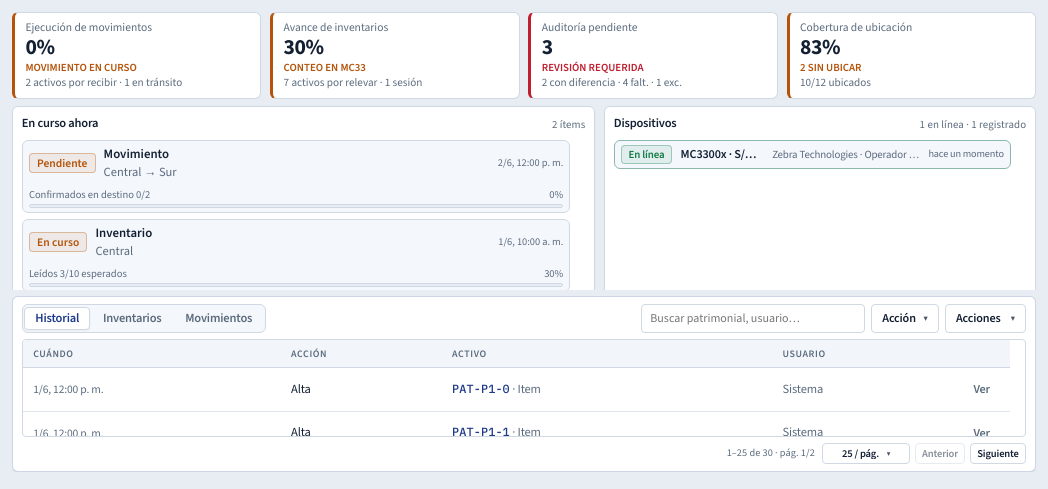
Test: DashboardPage › pagina el historial con Anterior y Siguiente
Check: the text "PAT-P1-0" is shown, box x1=452 y1=381 x2=510 y2=396
Check: the text "1–25 de 30 · pág. 1/2" is shown, box x1=727 y1=447 x2=815 y2=459
Click the button "Siguiente" at (998,453), box x1=970 y1=443 x2=1026 y2=464
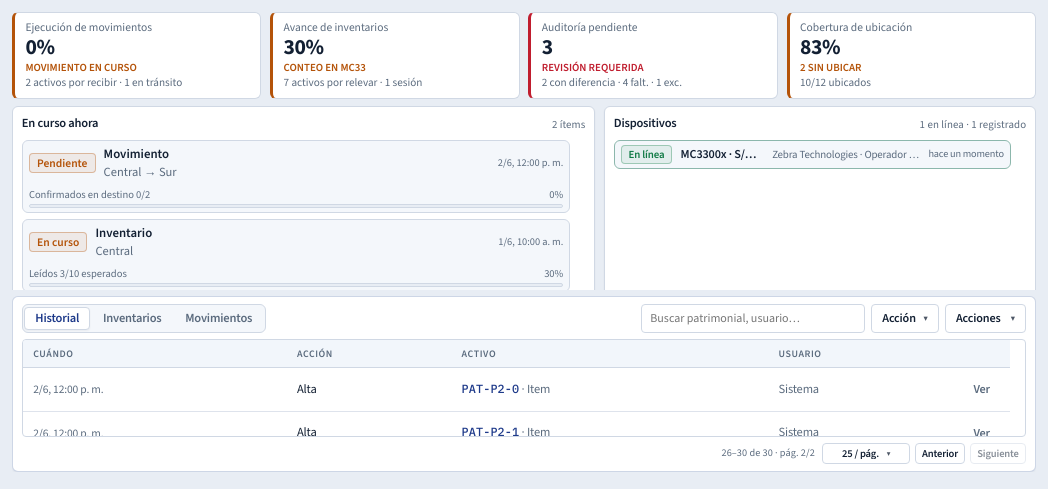
Check: the text "PAT-P2-0" is shown, box x1=462 y1=381 x2=519 y2=396
Check: the text "26–30 de 30 · pág. 2/2" is shown, box x1=721 y1=447 x2=815 y2=459
Check: the button "Siguiente" is disabled, box x1=970 y1=443 x2=1026 y2=464
Click the button "Anterior" at (940,453), box x1=914 y1=443 x2=965 y2=464
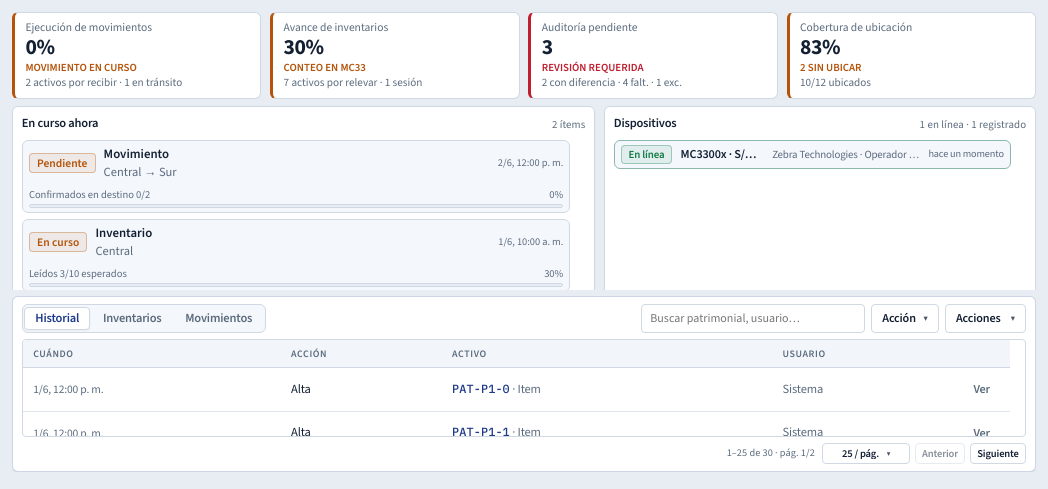
Check: the text "PAT-P1-0" is shown, box x1=452 y1=381 x2=510 y2=396
